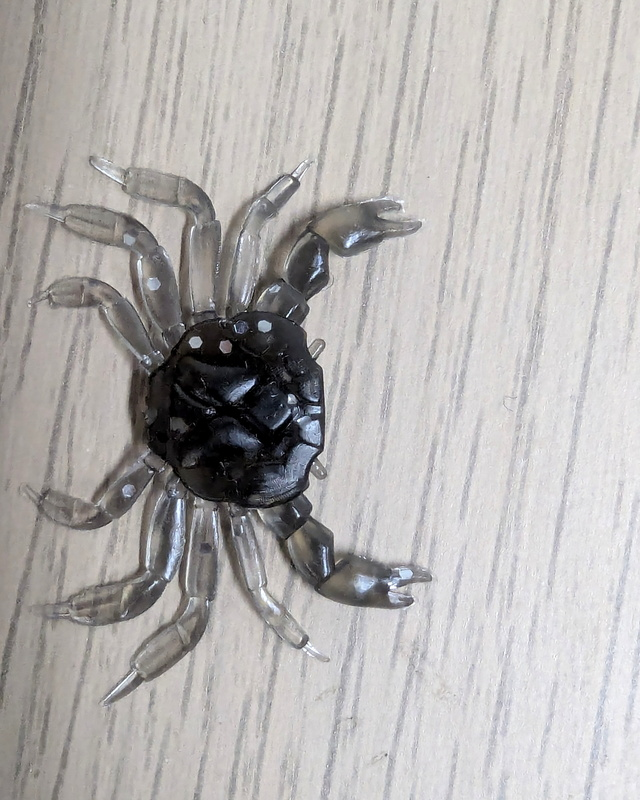crab1: (19, 155, 437, 705)
